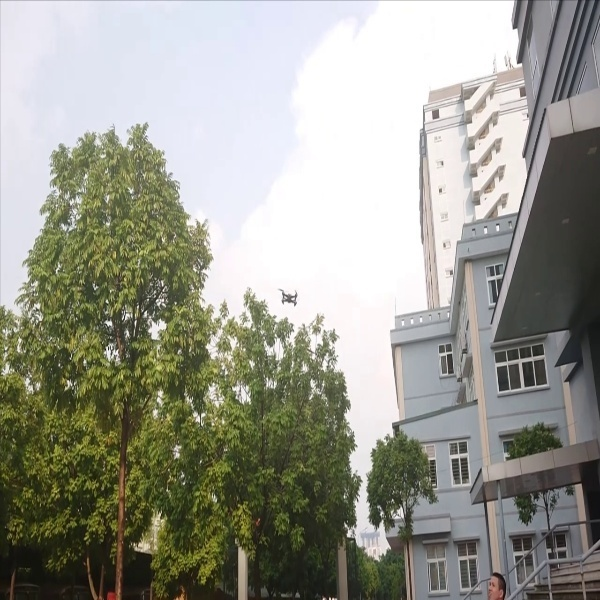drone: (274, 286, 301, 313)
